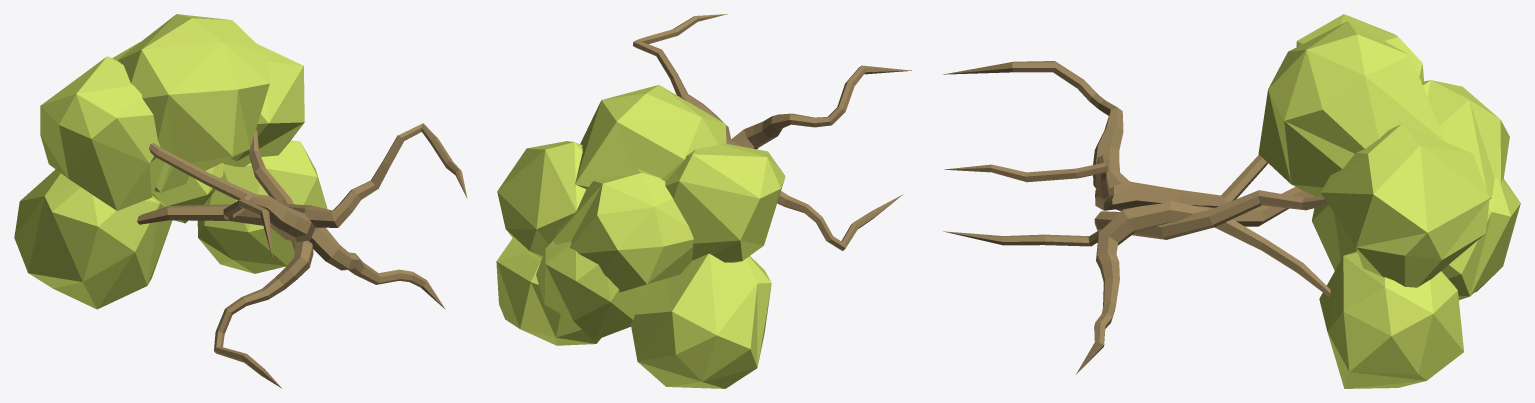
File: Tree_0.fbx
3 renders of one model, left to right at view 1: azimuth 30°, elevation 25°; view 2: azimuth 150°, elevation 25°; view 3: azimuth 270°, elevation 25°, orthographic. The views are drawn at different scales.
Parts seen in each view (by area): view 1: Tree_0; view 2: Tree_0; view 3: Tree_0.
Boxes of the visible parts, x1,y1,x2,y2 form: Tree_0: (14,14,467,388); Tree_0: (496,14,911,388); Tree_0: (943,14,1520,388).
Size of the model in its own units: 20.31 by 18.66 by 31.44.
